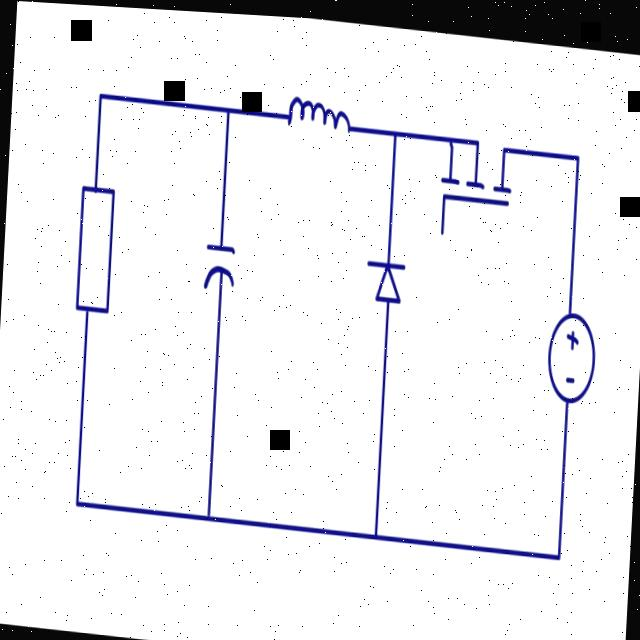capacitor: (196, 218, 250, 315)
diode: (358, 233, 412, 317)
inductor: (282, 76, 355, 160)
mosfet: (424, 104, 526, 248)
resistor: (68, 166, 120, 331)
source: (534, 290, 606, 418)
